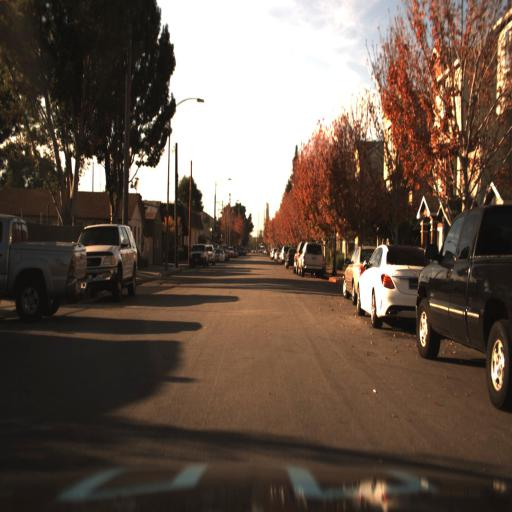car: (415, 202, 512, 415), (0, 212, 92, 334), (356, 242, 434, 329), (79, 222, 139, 299), (298, 241, 324, 276)
